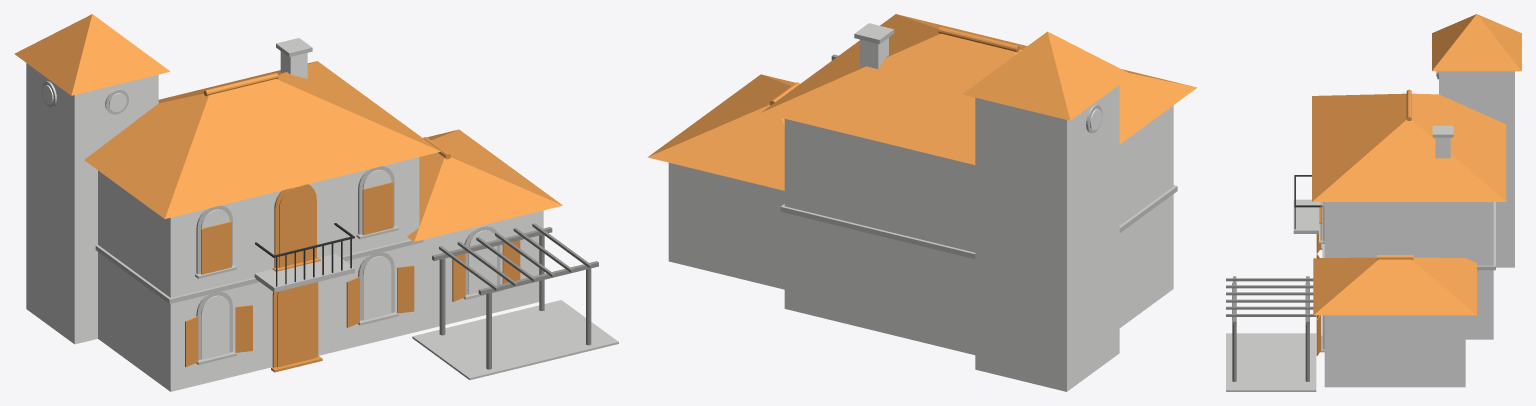
Rendered from mediterranean-villa.glb.
3 views of the same model, side by side, from view 1: azimuth 30°, elevation 25°; view 2: azimuth 150°, elevation 25°; view 3: azimuth 270°, elevation 25° (orthographic). The views are drawn at different scales.
Visible parts, largest first — view 1: MV_MainBlock, MV_RoofMain, MV_Tower, MV_RoofWing, MV_Terrace, MV_RoofTower, MV_Wing, MV_Door_pane, MV_DoorBalc_pane, MV_BalconySlab, MV_TrimBand, MV_WinG1_pane (+18 smaller); view 2: MV_MainBlock, MV_Tower, MV_RoofMain, MV_Wing, MV_RoofWing, MV_RoofTower, MV_TrimBand, MV_Chimney, MV_RoofMain_ridge, MV_ChimneyCap; view 3: MV_RoofMain, MV_MainBlock, MV_Wing, MV_RoofWing, MV_Terrace, MV_Tower, MV_RoofTower, MV_BalconySlab, MV_Chimney, MV_PergolaRafter0, MV_PergolaRafter1, MV_PergolaRafter2 (+7 smaller).
Part boxes in pixels (x1,y1,x2,y2): MV_MainBlock: [98, 157, 419, 391]; MV_RoofMain: [84, 61, 440, 218]; MV_Tower: [26, 63, 158, 344]; MV_RoofWing: [407, 129, 562, 241]; MV_Terrace: [412, 300, 618, 380]; MV_RoofTower: [14, 14, 170, 95]; MV_Wing: [419, 210, 543, 331]; MV_Door_pane: [277, 287, 315, 367]; MV_DoorBalc_pane: [279, 201, 313, 267]; MV_BalconySlab: [254, 254, 354, 292]; MV_TrimBand: [95, 239, 423, 303]; MV_WinG1_pane: [201, 308, 229, 359]; MV_MainBlock: [784, 105, 1173, 354]; MV_Tower: [975, 85, 1119, 391]; MV_RoofMain: [761, 14, 1196, 164]; MV_Wing: [668, 162, 784, 289]; MV_RoofWing: [647, 74, 795, 190]; MV_RoofTower: [962, 31, 1132, 120]; MV_TrimBand: [780, 185, 1177, 258]; MV_Chimney: [859, 38, 888, 68]; MV_RoofMain_ridge: [938, 27, 1019, 52]; MV_ChimneyCap: [854, 23, 894, 44]; MV_RoofMain: [1312, 93, 1506, 201]; MV_MainBlock: [1324, 202, 1493, 339]; MV_Wing: [1324, 315, 1465, 387]; MV_RoofWing: [1313, 257, 1476, 315]; MV_Terrace: [1226, 333, 1316, 391]; MV_Tower: [1439, 71, 1514, 267]; MV_RoofTower: [1432, 14, 1521, 71]; MV_BalconySlab: [1293, 199, 1322, 233]; MV_Chimney: [1435, 137, 1450, 158]; MV_PergolaRafter0: [1226, 278, 1313, 281]; MV_PergolaRafter1: [1226, 285, 1313, 288]; MV_PergolaRafter2: [1226, 292, 1313, 295].
Bounding box in the file's own units: 13.4 × 9.38 × 10.5.
